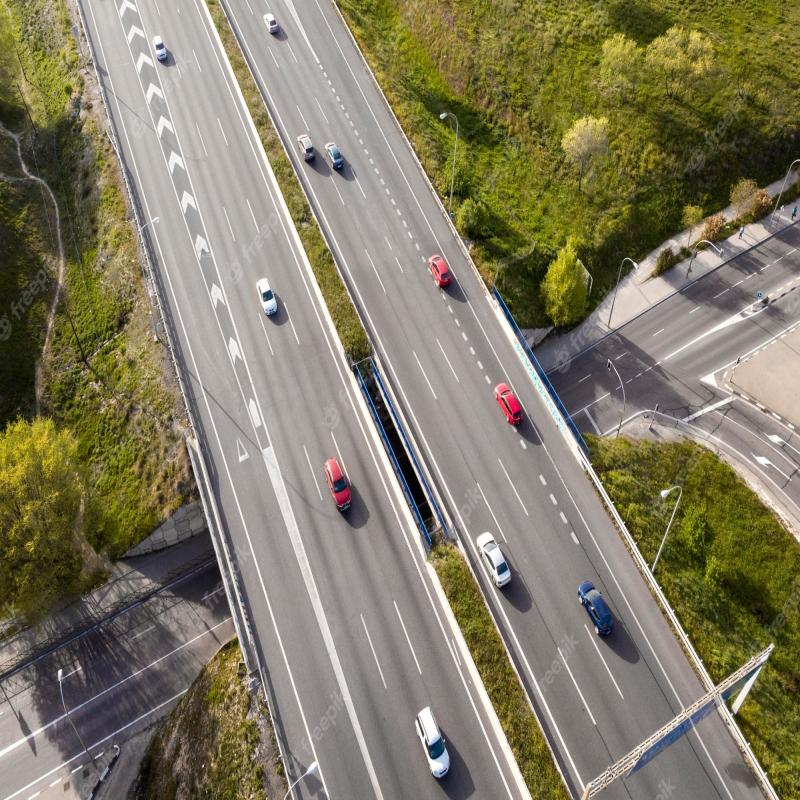car: (404, 696, 451, 785), (575, 561, 621, 642), (478, 526, 521, 599), (320, 456, 359, 522), (495, 382, 527, 432), (427, 246, 459, 294), (255, 278, 282, 330), (295, 126, 319, 181)
